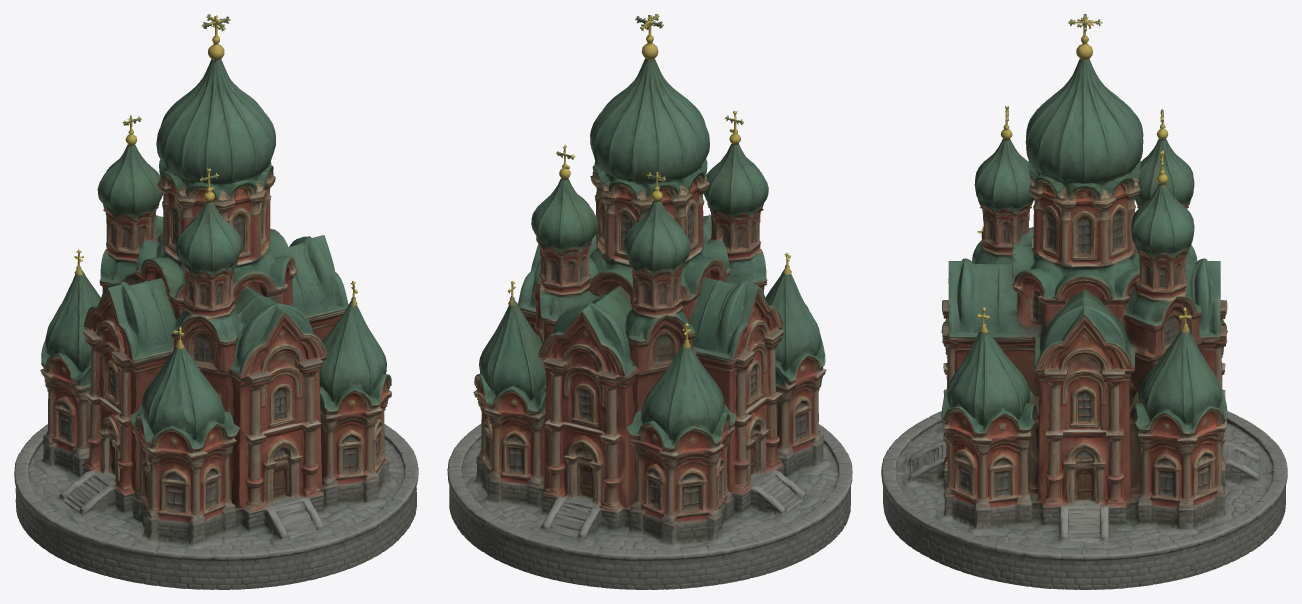
File: source.glb
The picture shows the model from 3 angles, left to right: view 1: azimuth 30°, elevation 25°; view 2: azimuth 150°, elevation 25°; view 3: azimuth 270°, elevation 25°; orthographic projection.
Parts seen in each view (by area): view 1: tripo_node_92f908af-d7bc-4c12-b15f-6b62d3978eb6; view 2: tripo_node_92f908af-d7bc-4c12-b15f-6b62d3978eb6; view 3: tripo_node_92f908af-d7bc-4c12-b15f-6b62d3978eb6.
Part boxes in pixels (x1,y1,x2,y2): tripo_node_92f908af-d7bc-4c12-b15f-6b62d3978eb6: [14, 14, 418, 589]; tripo_node_92f908af-d7bc-4c12-b15f-6b62d3978eb6: [447, 14, 852, 589]; tripo_node_92f908af-d7bc-4c12-b15f-6b62d3978eb6: [881, 14, 1287, 589].
Bounding box in the file's own units: 0.7364 × 0.9804 × 0.7374.
1 material, 1 textured.
